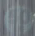Speed limit: (2, 2, 33, 35)
